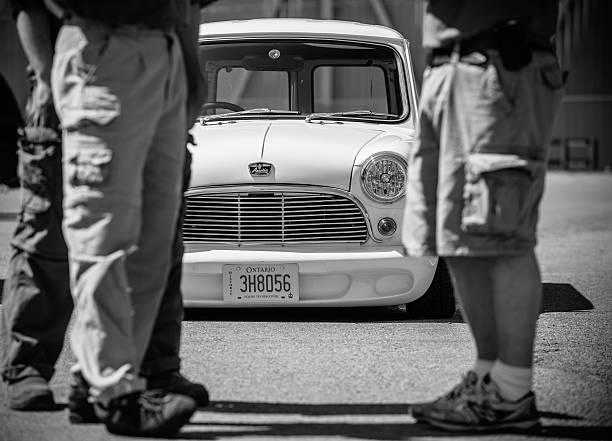licence: (220, 260, 300, 304)
